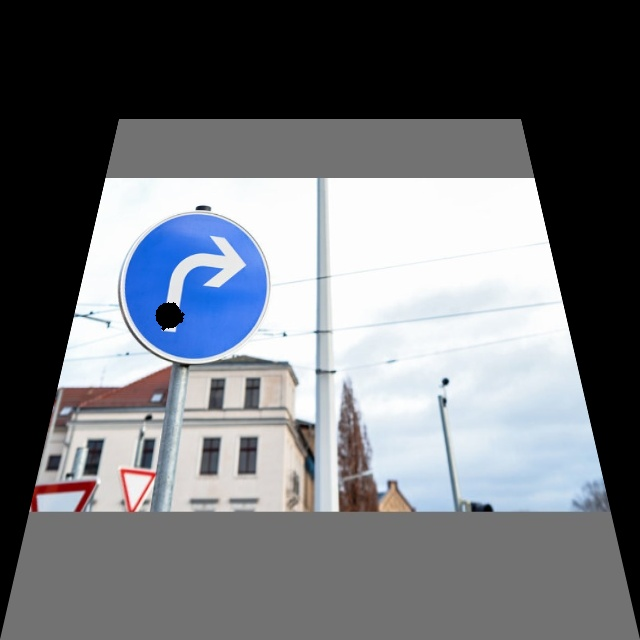Compulsory_Turn_Right_Ahead: (105, 210, 269, 365)
